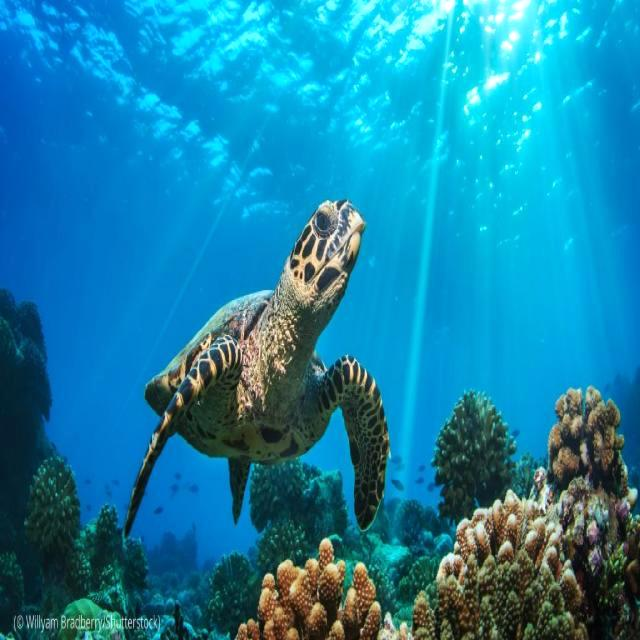Sea turtle: (121, 194, 392, 536)
